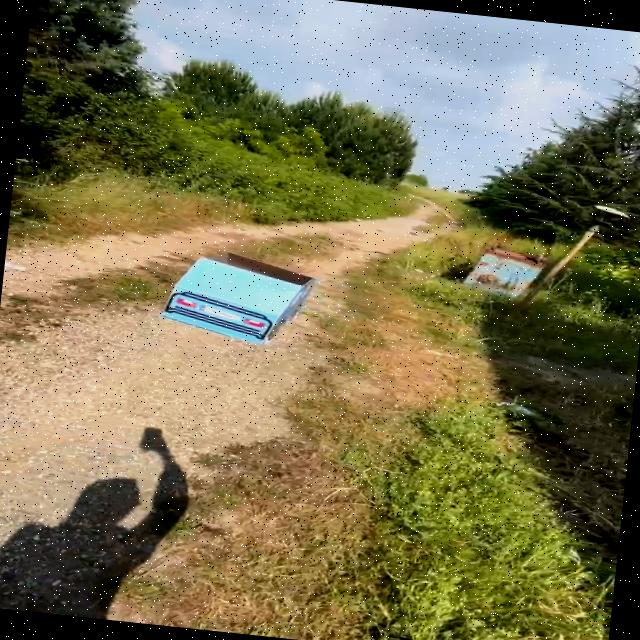blue_car: (136, 235, 333, 361)
